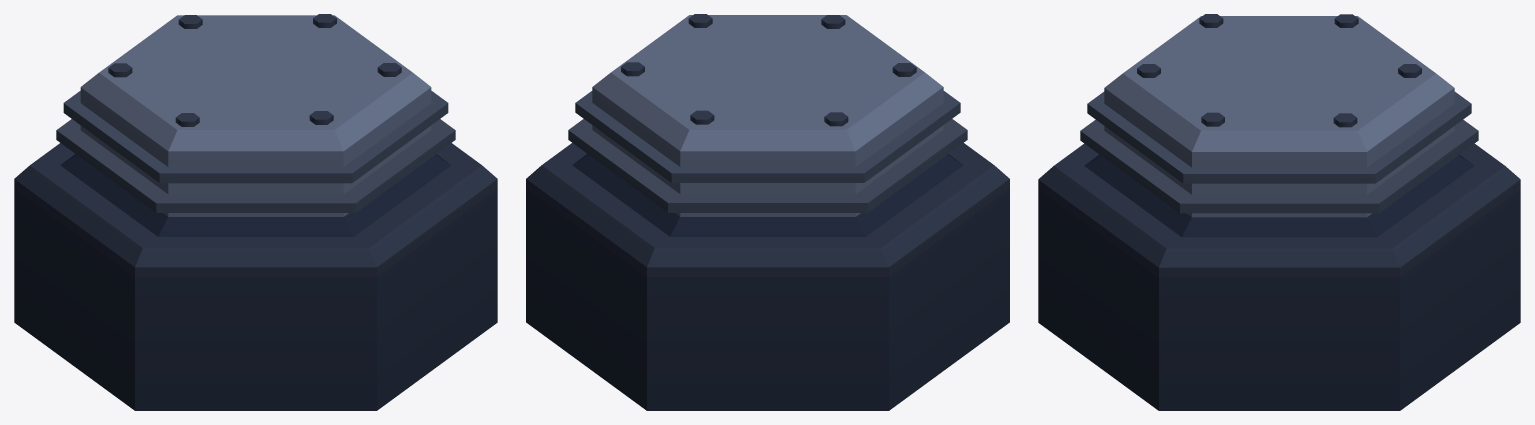
The model's file is Pillar 01.FBX.
3 views of the same model, side by side, from view 1: azimuth 30°, elevation 25°; view 2: azimuth 150°, elevation 25°; view 3: azimuth 270°, elevation 25° (orthographic).
Parts seen in each view (by area): view 1: Pillar 01; view 2: Pillar 01; view 3: Pillar 01.
Boxes of the visible parts, left/top/right/bottom form: Pillar 01: left=14, top=14, right=497, bottom=410; Pillar 01: left=526, top=14, right=1009, bottom=410; Pillar 01: left=1038, top=14, right=1520, bottom=410.
Size of the model in its own units: 280 by 188 by 323.
Materials: 1 (1 with a texture image).
